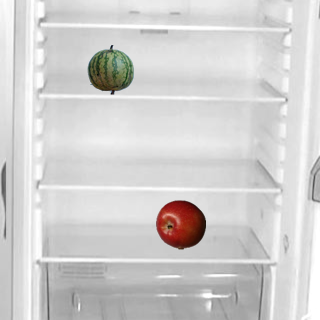Apple Braeburn: (155, 199, 205, 249)
Watermelon: (85, 44, 135, 94)
